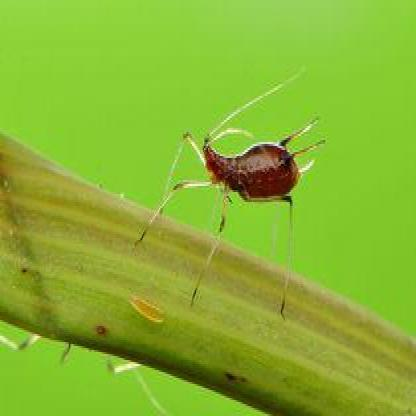aphid: (144, 86, 331, 316)
